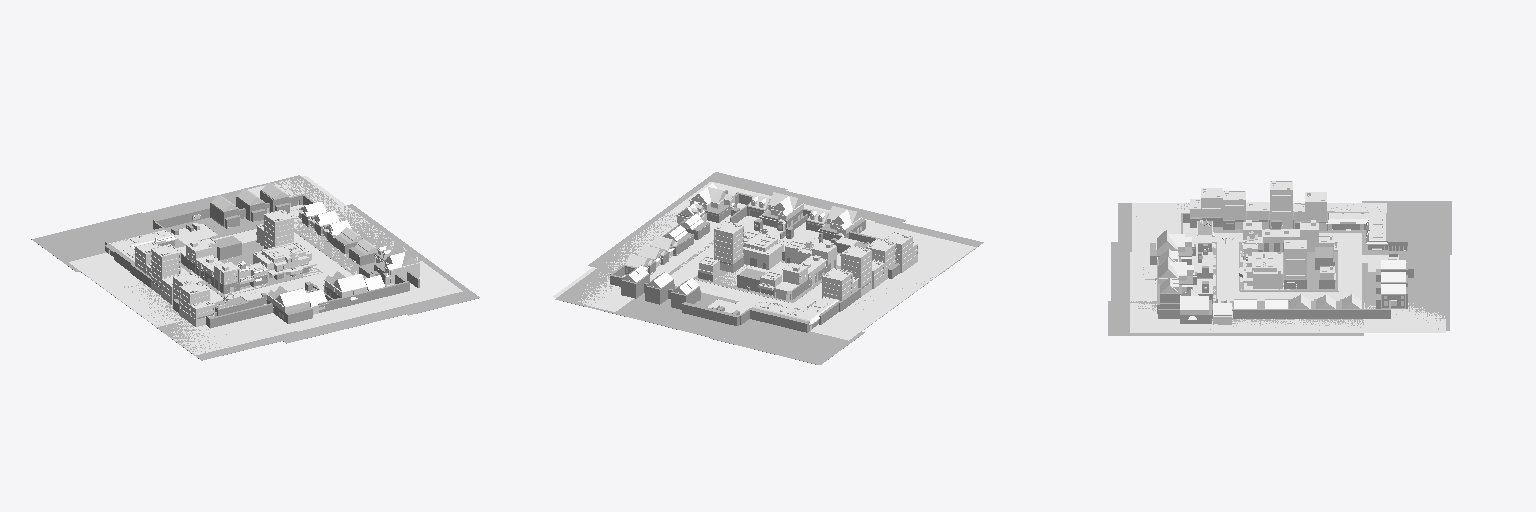
File: town.obj
3 renders of one model, left to right at view 1: azimuth 30°, elevation 25°; view 2: azimuth 150°, elevation 25°; view 3: azimuth 270°, elevation 25°, orthographic.
Visible parts, largest first — view 1: proxy_(7)_Mesh.215, proxy_(10)_Mesh.218, gravel_square_mesh_(2)_Mesh.160, grass_square_mesh_Mesh.134, gravel_square_mesh_(1)_Mesh.159, Building_Cinema_Mesh.026, proxy_(6)_Mesh.214, proxy_(1)_Mesh.209, Building_OfficeStepped_Grey_Mesh.131, gravel_square_mesh_(7)_Mesh.165, proxy_(8)_Mesh.216, Building_OfficeLarge_Grey_Mesh.127 (+11 smaller); view 2: proxy_(10)_Mesh.218, gravel_square_mesh_(2)_Mesh.160, proxy_(6)_Mesh.214, gravel_square_mesh_(7)_Mesh.165, proxy_(7)_Mesh.215, gravel_square_mesh_(1)_Mesh.159, Building_OfficeLarge_Blue_Mesh.121, Building_Cinema_Mesh.026, grass_square_mesh_Mesh.134, Building_OfficeLarge_Grey_Mesh.127, Building_Mall_Mesh.114, proxy_(1)_Mesh.209 (+10 smaller); view 3: proxy_(10)_Mesh.218, gravel_square_mesh_(7)_Mesh.165, grass_square_mesh_Mesh.134, gravel_square_mesh_(1)_Mesh.159, proxy_(6)_Mesh.214, proxy_(7)_Mesh.215, proxy_(21)_Mesh.229, Building_Cinema_Mesh.026, proxy_(1)_Mesh.209, Building_Mall_Mesh.114, Building_OfficeLarge_Grey_Mesh.127, Building_OfficeLarge_Blue_Mesh.121 (+10 smaller).
Boxes of the visible parts, x1=… form: proxy_(7)_Mesh.215: x1=294, y1=204, x2=479, y2=315; proxy_(10)_Mesh.218: x1=31, y1=212, x2=185, y2=271; gravel_square_mesh_(2)_Mesh.160: x1=69, y1=253, x2=183, y2=325; grass_square_mesh_Mesh.134: x1=264, y1=261, x2=462, y2=331; gravel_square_mesh_(1)_Mesh.159: x1=156, y1=313, x2=295, y2=354; Building_Cinema_Mesh.026: x1=253, y1=242, x2=316, y2=278; proxy_(6)_Mesh.214: x1=189, y1=175, x2=339, y2=235; proxy_(1)_Mesh.209: x1=277, y1=285, x2=415, y2=343; Building_OfficeStepped_Grey_Mesh.131: x1=179, y1=282, x2=214, y2=326; gravel_square_mesh_(7)_Mesh.165: x1=248, y1=176, x2=417, y2=272; proxy_(8)_Mesh.216: x1=156, y1=320, x2=281, y2=360; Building_OfficeLarge_Grey_Mesh.127: x1=151, y1=244, x2=180, y2=294; proxy_(10)_Mesh.218: x1=710, y1=307, x2=864, y2=364; gravel_square_mesh_(2)_Mesh.160: x1=811, y1=269, x2=935, y2=340; proxy_(6)_Mesh.214: x1=555, y1=267, x2=717, y2=328; gravel_square_mesh_(7)_Mesh.165: x1=553, y1=212, x2=719, y2=311; proxy_(7)_Mesh.215: x1=588, y1=172, x2=787, y2=274; gravel_square_mesh_(1)_Mesh.159: x1=860, y1=223, x2=975, y2=275; Building_OfficeLarge_Blue_Mesh.121: x1=714, y1=221, x2=743, y2=272; Building_Cinema_Mesh.026: x1=744, y1=228, x2=784, y2=269; grass_square_mesh_Mesh.134: x1=670, y1=182, x2=874, y2=245; Building_OfficeLarge_Grey_Mesh.127: x1=841, y1=245, x2=871, y2=296; Building_Mall_Mesh.114: x1=753, y1=297, x2=838, y2=330; proxy_(1)_Mesh.209: x1=768, y1=188, x2=905, y2=255; proxy_(10)_Mesh.218: x1=1362, y1=201, x2=1451, y2=254; gravel_square_mesh_(7)_Mesh.165: x1=1212, y1=303, x2=1445, y2=332; grass_square_mesh_Mesh.134: x1=1130, y1=252, x2=1212, y2=332; gravel_square_mesh_(1)_Mesh.159: x1=1132, y1=203, x2=1197, y2=251; proxy_(6)_Mesh.214: x1=1362, y1=272, x2=1449, y2=330; proxy_(7)_Mesh.215: x1=1108, y1=301, x2=1363, y2=335; proxy_(21)_Mesh.229: x1=1158, y1=309, x2=1366, y2=318; Building_Cinema_Mesh.026: x1=1239, y1=252, x2=1282, y2=288; proxy_(1)_Mesh.209: x1=1111, y1=242, x2=1216, y2=300; Building_Mall_Mesh.114: x1=1326, y1=213, x2=1387, y2=250; Building_OfficeLarge_Grey_Mesh.127: x1=1270, y1=181, x2=1292, y2=228; Building_OfficeLarge_Blue_Mesh.121: x1=1284, y1=240, x2=1306, y2=288.
Size of the model in its own units: 196 by 37.42 by 211.